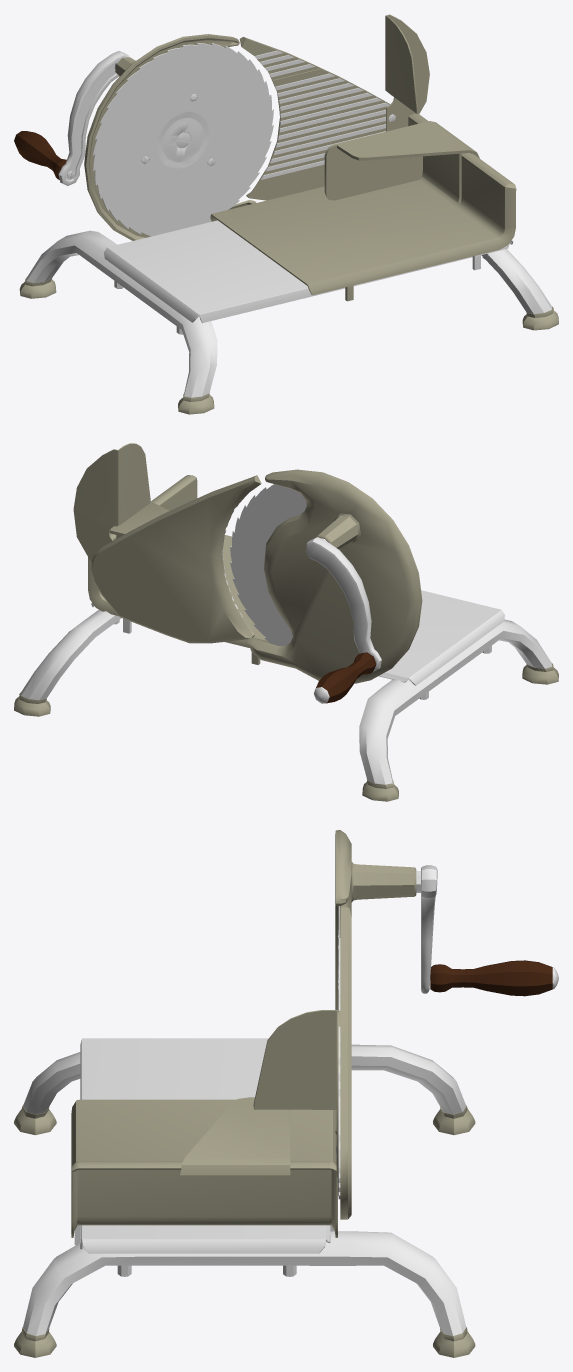
File: BreadCutMachine_MPI01_fbx.fbx
The picture shows the model from 3 angles, top to bottom: view 1: azimuth 30°, elevation 25°; view 2: azimuth 150°, elevation 25°; view 3: azimuth 270°, elevation 25°; orthographic projection. The views are drawn at different scales.
Parts seen in each view (by area): view 1: Chocofur_Free_Details_25; view 2: Chocofur_Free_Details_25; view 3: Chocofur_Free_Details_25.
Boxes of the visible parts, x1,y1,x2,y2 form: Chocofur_Free_Details_25: (14,14,558,414); Chocofur_Free_Details_25: (14,443,558,801); Chocofur_Free_Details_25: (14,830,558,1357).
Bounding box in the file's own units: 19.54 × 12.84 × 18.33.
